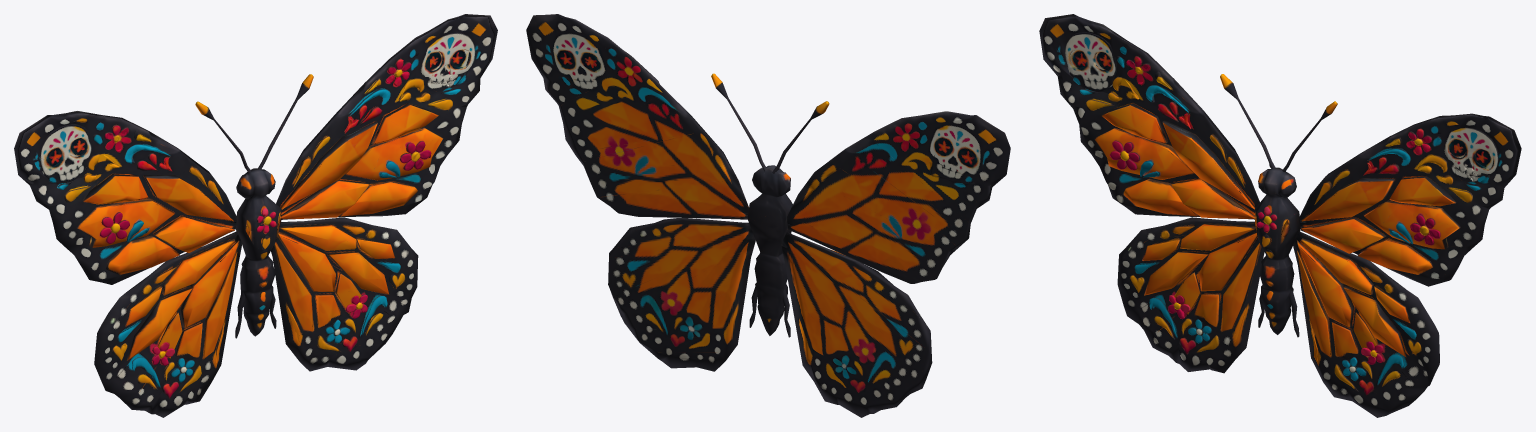
File: monarca_cuerpo.obj
3 views of the same model, side by side, from view 1: azimuth 30°, elevation 25°; view 2: azimuth 150°, elevation 25°; view 3: azimuth 330°, elevation 25° (orthographic).
Parts seen in each view (by area): view 1: monarca_izq, monarca_der, monarca_cuepo; view 2: monarca_izq, monarca_der, monarca_cuepo; view 3: monarca_izq, monarca_der, monarca_cuepo.
Boxes of the visible parts, x1,y1,x2,y2 form: monarca_izq: (14,111,237,417); monarca_der: (279,14,497,371); monarca_cuepo: (182,74,338,363); monarca_izq: (791,111,1010,417); monarca_der: (526,14,747,371); monarca_cuepo: (711,73,849,364); monarca_izq: (1039,14,1260,373); monarca_der: (1299,113,1521,417); monarca_cuepo: (1198,74,1355,357).
Bounding box in the file's own units: 0.9653 × 0.6309 × 0.0537.
1 material, 1 textured.
